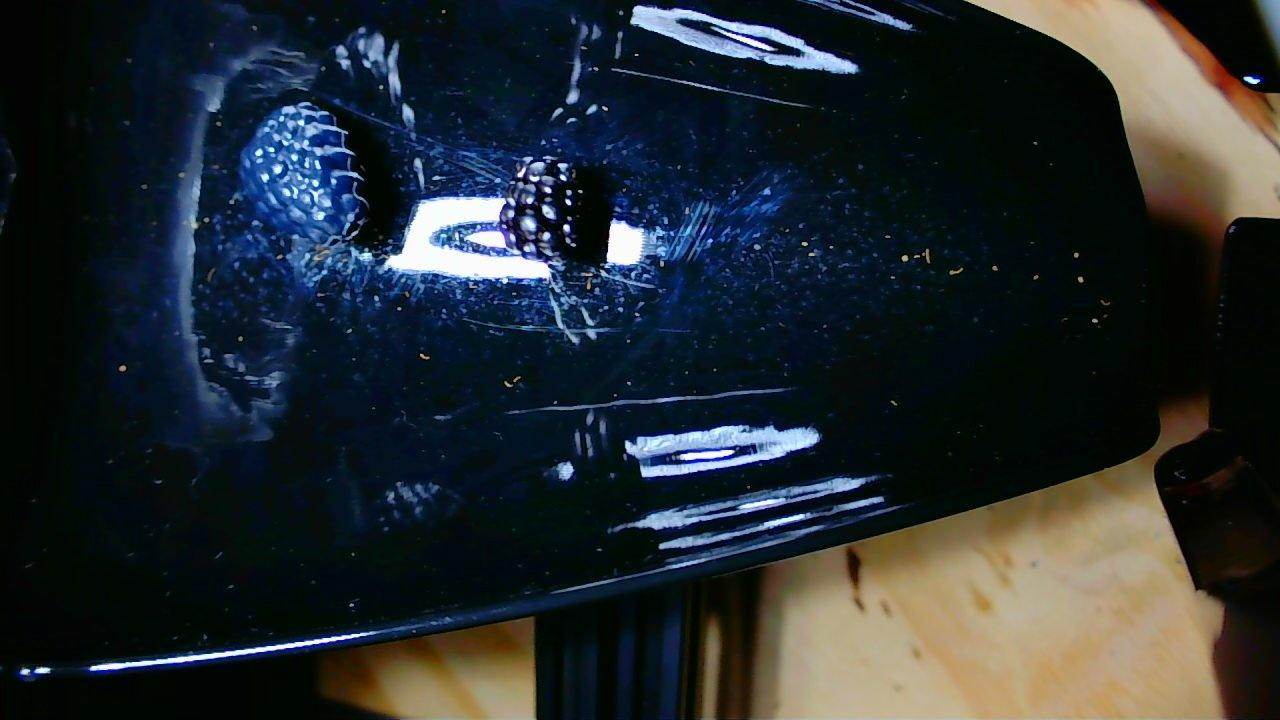berry: (239, 102, 369, 244), (499, 157, 579, 262)
